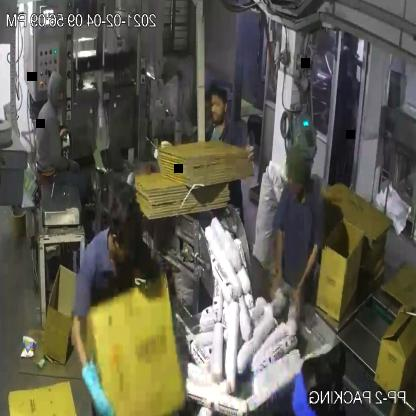glove: (77, 343, 121, 416)
no_glove: (287, 232, 324, 323), (266, 217, 294, 321)
